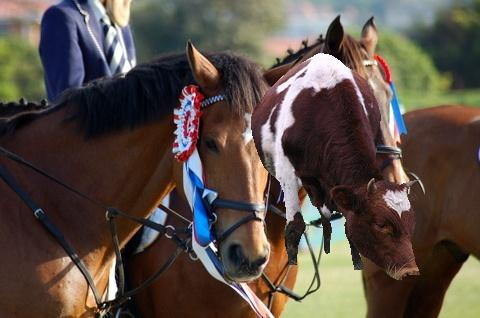tampered: (252, 54, 420, 280)
